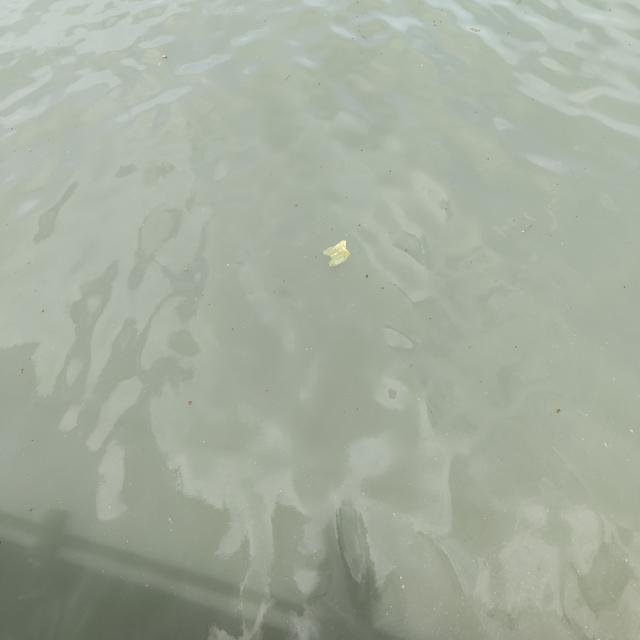Kantong Plastik: (323, 237, 354, 273)
